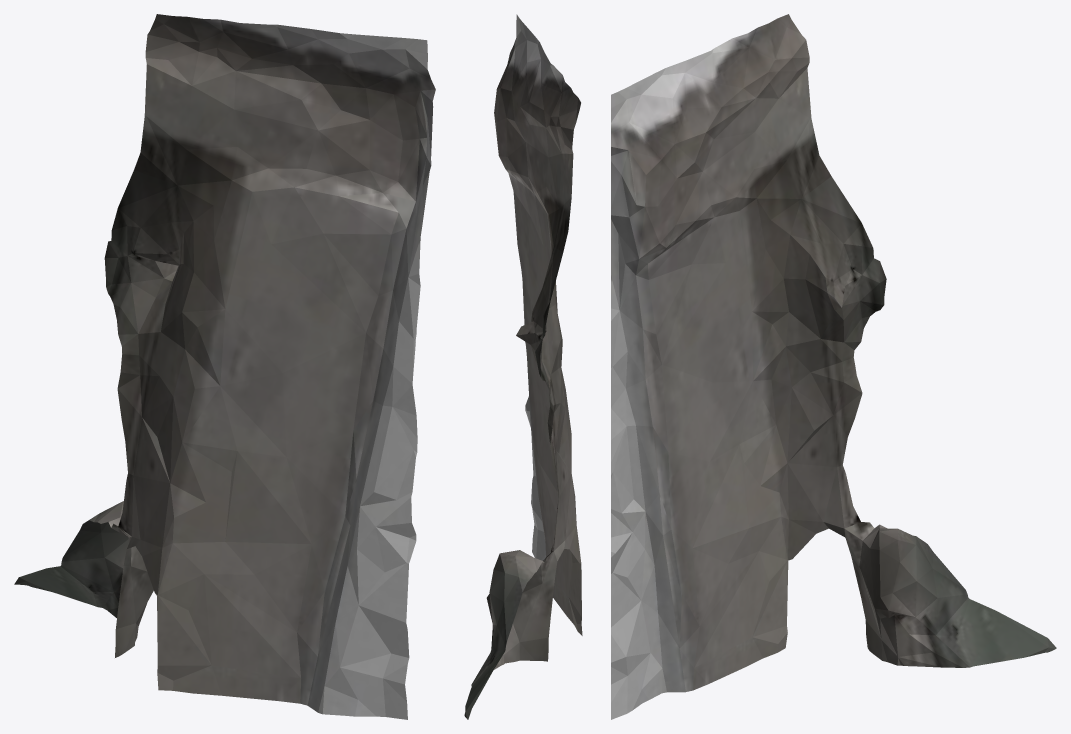
3 views of the same model, side by side, from view 1: azimuth 30°, elevation 25°; view 2: azimuth 150°, elevation 25°; view 3: azimuth 270°, elevation 25° (orthographic). The views are drawn at different scales.
Size of the model in its own units: 0.2465 by 0.8373 by 0.5334.
Materials: 1 (1 with a texture image).
